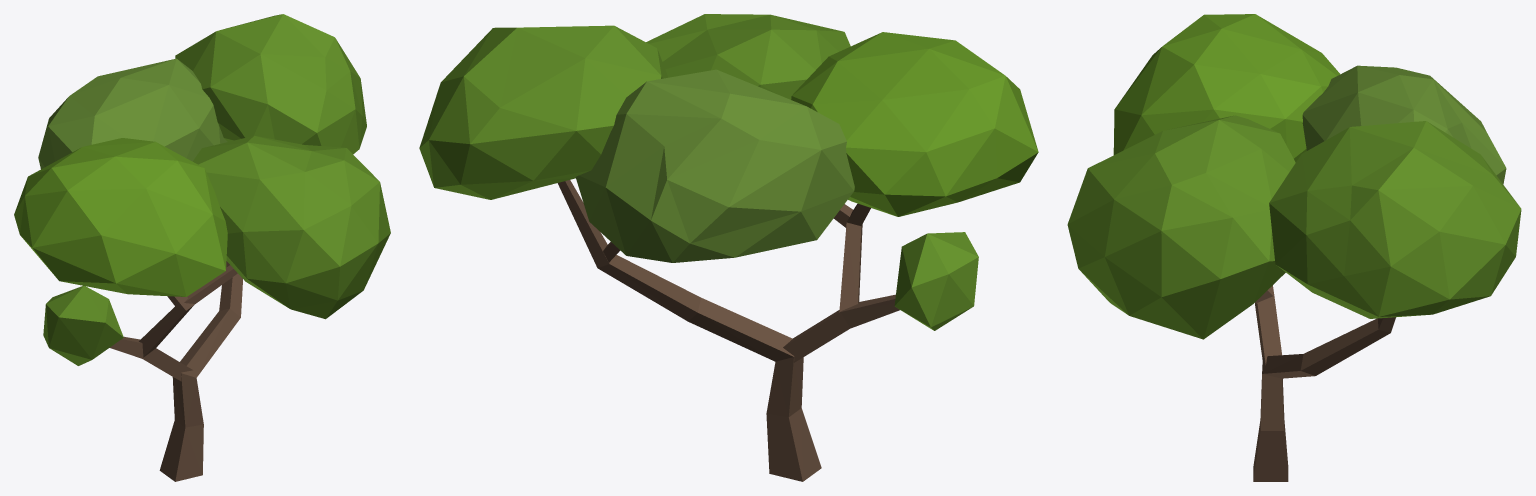
File: tree_7.fbx
The picture shows the model from 3 angles, left to right: view 1: azimuth 30°, elevation 25°; view 2: azimuth 150°, elevation 25°; view 3: azimuth 270°, elevation 25°; orthographic projection. The views are drawn at different scales.
Parts seen in each view (by area): view 1: tree_7; view 2: tree_7; view 3: tree_7.
Boxes of the visible parts, x1,y1,x2,y2 form: tree_7: [14, 14, 390, 481]; tree_7: [419, 14, 1038, 481]; tree_7: [1067, 14, 1521, 481].
Size of the model in its own units: 987 by 858 by 845.
